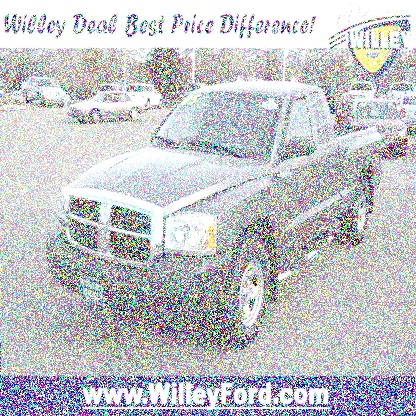Vehicle: (48, 83, 381, 349)
